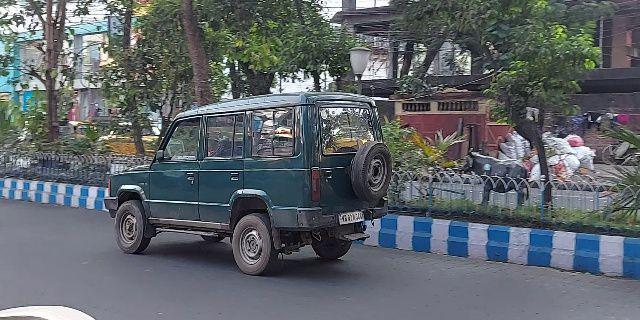Car: (99, 92, 395, 278)
